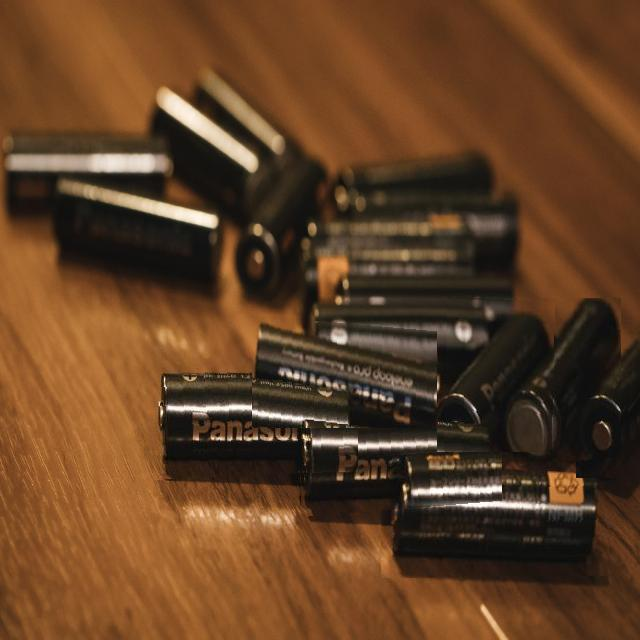battery: (382, 462, 616, 578), (147, 358, 358, 480), (296, 403, 502, 517), (252, 315, 447, 428), (511, 298, 621, 466), (438, 296, 556, 452), (576, 316, 636, 478)
